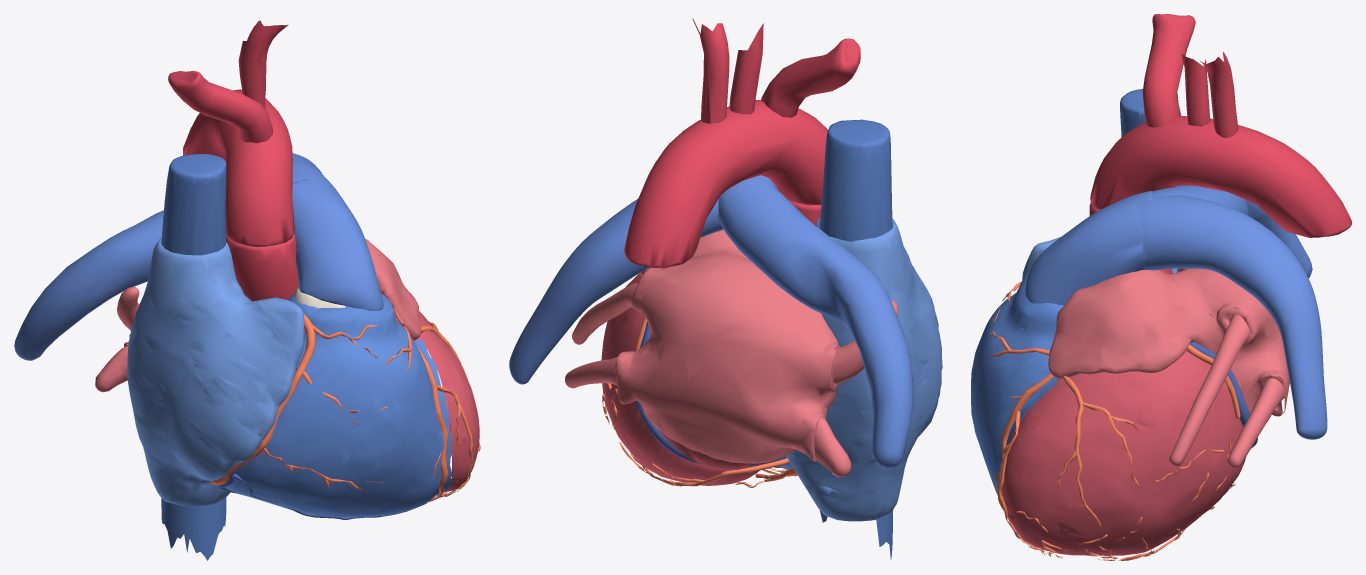
File: heart-bp3d.glb
The picture shows the model from 3 angles, left to right: view 1: azimuth 30°, elevation 25°; view 2: azimuth 150°, elevation 25°; view 3: azimuth 270°, elevation 25°; orthographic projection. The views are drawn at different scales.
Visible parts, largest first — view 1: right_atrium, right_ventricle, arch_of_aorta, right_pulmonary_artery, pulmonary_trunk, superior_vena_cava, left_ventricle, brachiocephalic_trunk, ascending_aorta, inferior_vena_cava, right_coronary_artery, left_coronary_artery (+7 smaller); view 2: left_atrium, right_pulmonary_artery, arch_of_aorta, right_atrium, left_pulmonary_artery, superior_vena_cava, left_ventricle, brachiocephalic_trunk, left_subclavian_artery, left_common_carotid_artery, left_superior_pulmonary_vein, right_coronary_artery (+5 smaller); view 3: left_ventricle, left_atrium, arch_of_aorta, left_pulmonary_artery, right_ventricle, pulmonary_trunk, left_coronary_artery, brachiocephalic_trunk, left_superior_pulmonary_vein, right_pulmonary_artery, left_subclavian_artery, left_inferior_pulmonary_vein (+4 smaller).
Part boxes in pixels (<box>): right_atrium: <box>127,237,304,506</box>; right_ventricle: <box>226,292,452,517</box>; arch_of_aorta: <box>183,89,294,246</box>; right_pulmonary_artery: <box>14,173,301,360</box>; pulmonary_trunk: <box>292,179,383,310</box>; superior_vena_cava: <box>161,154,226,255</box>; left_ventricle: <box>385,295,479,491</box>; brachiocephalic_trunk: <box>168,70,273,143</box>; ascending_aorta: <box>226,233,298,301</box>; inferior_vena_cava: <box>161,498,226,560</box>; right_coronary_artery: <box>210,314,453,501</box>; left_coronary_artery: <box>385,303,480,498</box>; left_atrium: <box>615,229,840,463</box>; right_pulmonary_artery: <box>718,175,913,468</box>; arch_of_aorta: <box>624,100,827,267</box>; right_atrium: <box>786,217,942,521</box>; left_pulmonary_artery: <box>509,198,723,384</box>; superior_vena_cava: <box>819,119,892,241</box>; left_ventricle: <box>601,274,772,485</box>; brachiocephalic_trunk: <box>761,38,860,117</box>; left_subclavian_artery: <box>692,18,729,123</box>; left_common_carotid_artery: <box>729,23,763,114</box>; left_superior_pulmonary_vein: <box>572,283,637,344</box>; right_coronary_artery: <box>619,442,797,487</box>; left_ventricle: <box>1001,313,1246,555</box>; left_atrium: <box>1048,268,1289,421</box>; arch_of_aorta: <box>1090,116,1351,237</box>; left_pulmonary_artery: <box>1137,195,1327,439</box>; right_ventricle: <box>971,272,1063,495</box>; pulmonary_trunk: <box>1025,191,1151,305</box>; left_coronary_artery: <box>989,331,1240,558</box>; brachiocephalic_trunk: <box>1142,14,1195,127</box>; left_superior_pulmonary_vein: <box>1169,308,1249,466</box>; right_pulmonary_artery: <box>1151,185,1312,277</box>; left_subclavian_artery: <box>1200,52,1238,137</box>; left_inferior_pulmonary_vein: <box>1227,375,1284,468</box>.
Size of the model in its own units: 0.1408 by 0.1846 by 0.1271.
